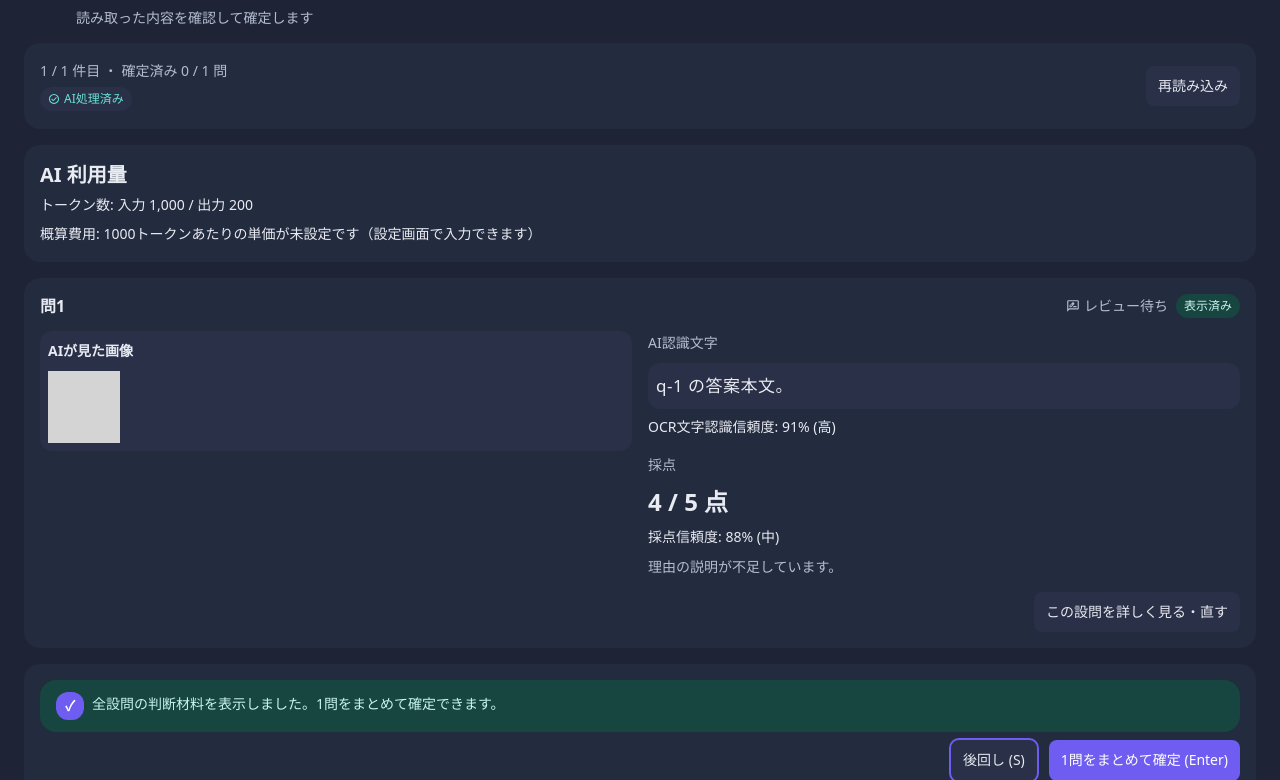
Test case: SubmissionConfirmPage (Issue #245) › INV-201-08: Enter on defer button does not confirm submission
(page scrolled)
Expected: the element with test id "confirm-question-list" is shown, 24,278 -> 1256,648
Expected: the button with test id "confirm-submission-button" is enabled, 1049,740 -> 1240,779
Press Enter in the button with test id "confirm-defer-button", box 951,740 -> 1037,779
Click the button with test id "confirm-defer-button".
click(994, 760)  # box 951,740 -> 1037,779
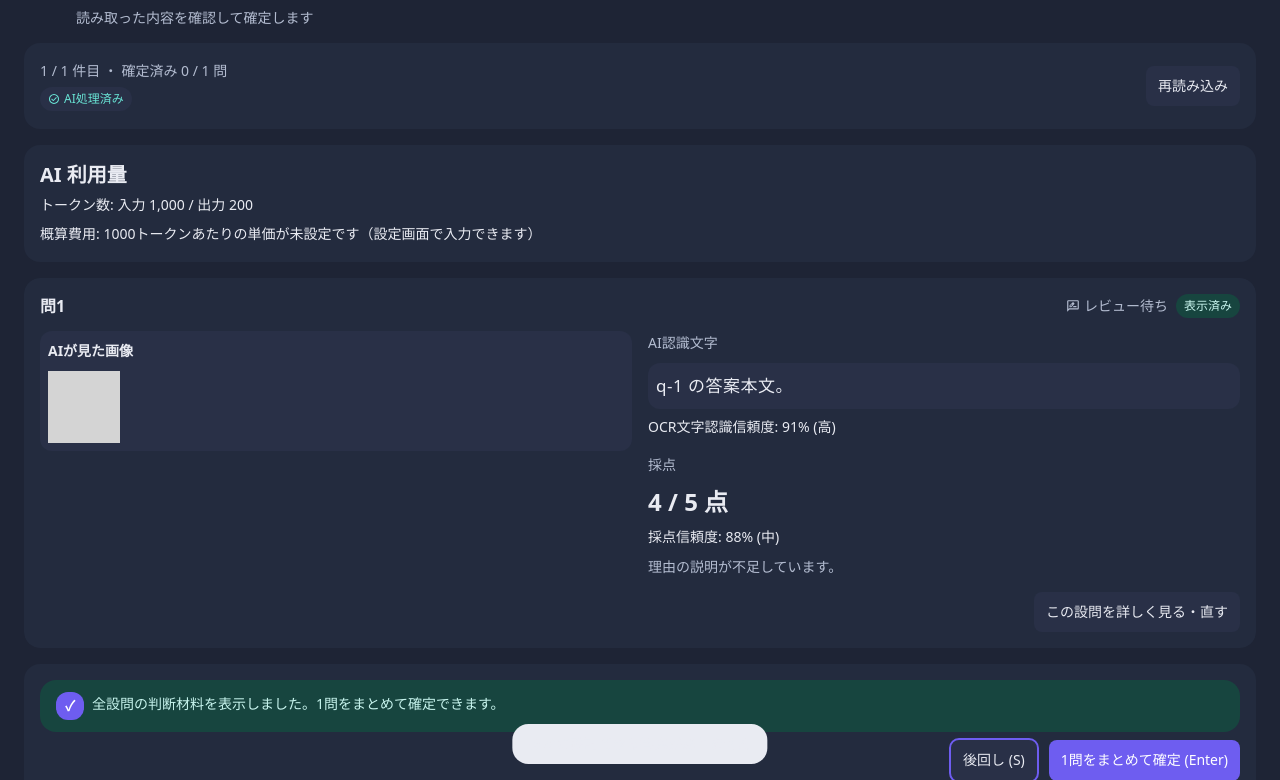
Now the text "ほかに確認できる答案がありません" is shown, box 512,724 -> 768,764
